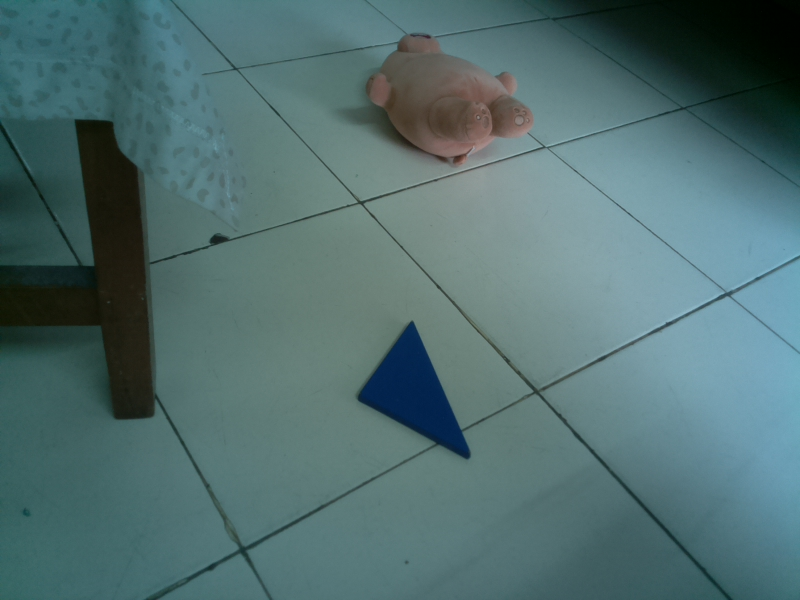Triangle: (353, 316, 474, 464)
